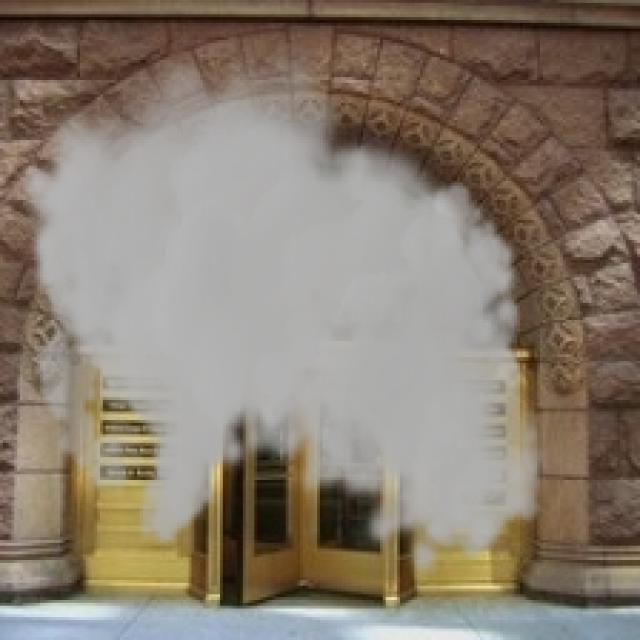smoke: (17, 40, 549, 580)
